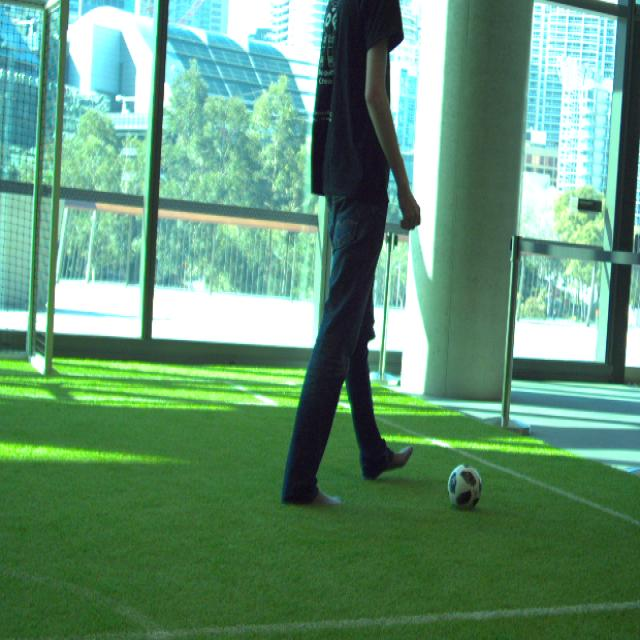ball: (447, 463, 482, 512)
goalpost: (43, 0, 69, 377)
